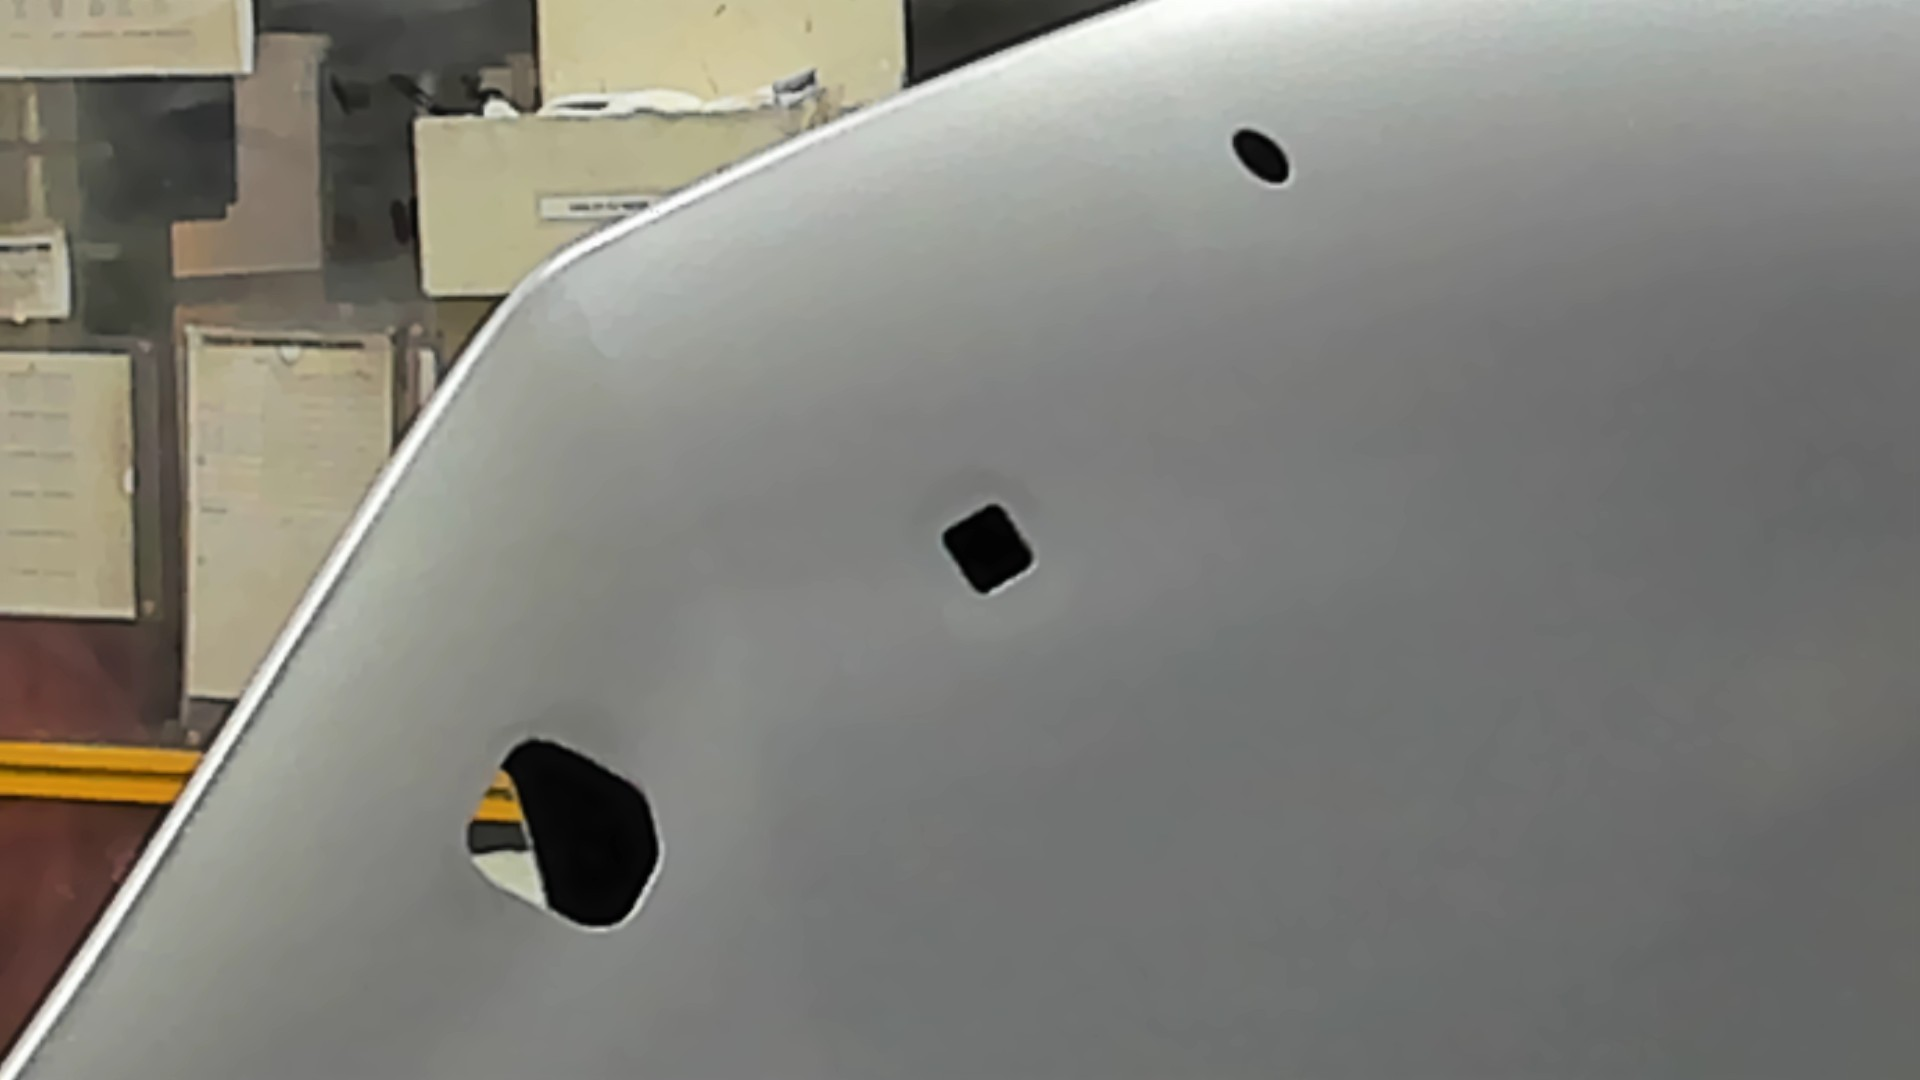chico: (1230, 127, 1296, 189)
grande: (463, 732, 669, 935)
mediano: (940, 500, 1038, 597)
